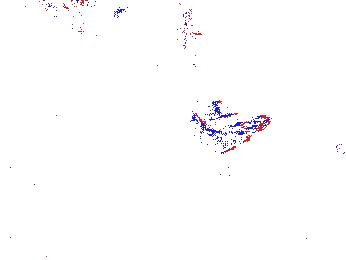X-ray fish: (311, 202, 324, 231), (331, 139, 346, 158)
red belly glassfish: (71, 1, 124, 24), (215, 167, 246, 188), (189, 52, 203, 70)
redtail glassfish: (195, 103, 270, 154), (21, 1, 79, 29), (175, 5, 203, 48)
